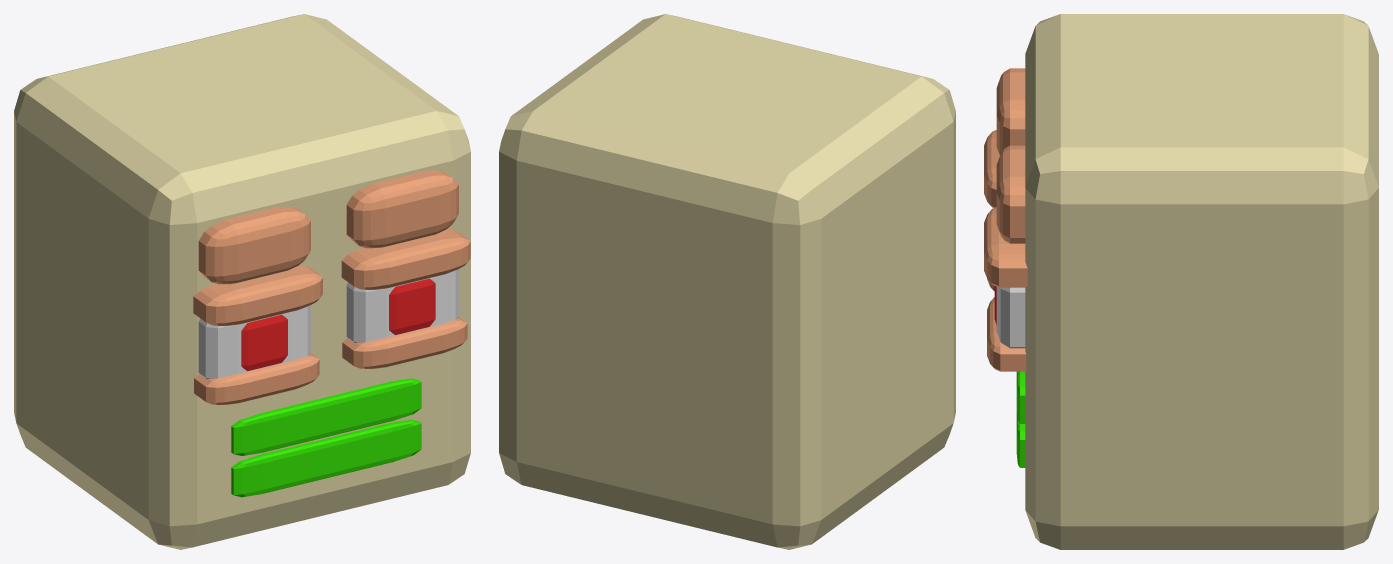
The model's file is robotTo.glb.
3 views of the same model, side by side, from view 1: azimuth 30°, elevation 25°; view 2: azimuth 150°, elevation 25°; view 3: azimuth 270°, elevation 25° (orthographic). The views are drawn at different scales.
Visible parts, largest first — view 1: robot_haed; view 2: robot_haed; view 3: robot_haed.
Part boxes in pixels (left/top/right/bottom): robot_haed: left=14, top=14, right=470, bottom=549; robot_haed: left=499, top=14, right=955, bottom=549; robot_haed: left=984, top=14, right=1378, bottom=549.
Size of the model in its own units: 0.8 by 0.9 by 0.8.
